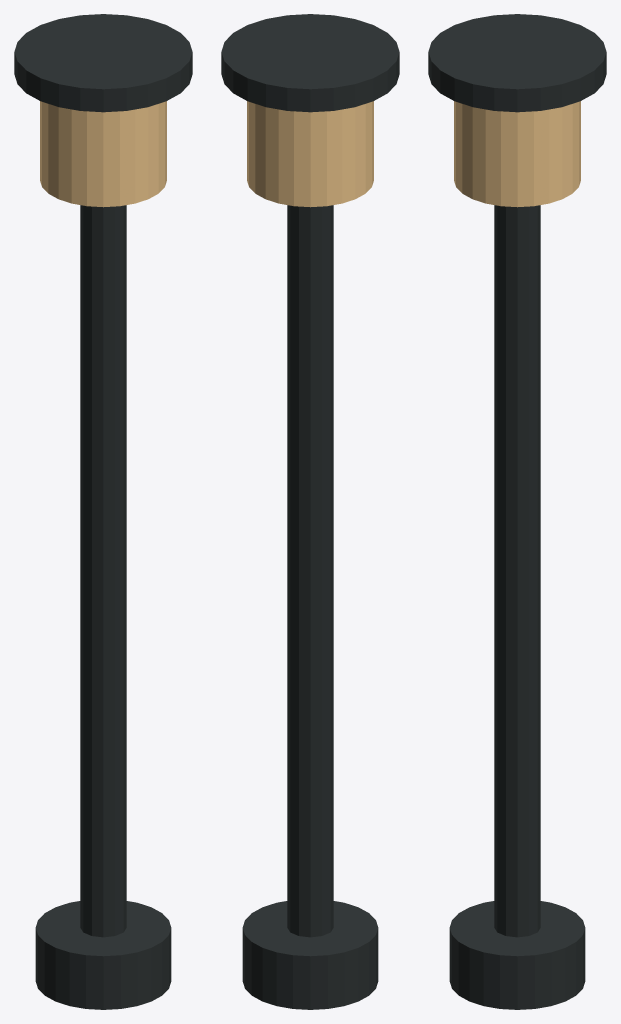
File: SAF_LAMP_NORMAL_01.fbx
3 views of the same model, side by side, from view 1: azimuth 30°, elevation 25°; view 2: azimuth 150°, elevation 25°; view 3: azimuth 270°, elevation 25° (orthographic).
Parts seen in each view (by area): view 1: SAF_LAMP_NORMAL_01; view 2: SAF_LAMP_NORMAL_01; view 3: SAF_LAMP_NORMAL_01.
Part boxes in pixels (x1,y1,x2,y2): SAF_LAMP_NORMAL_01: (14,14,192,1009); SAF_LAMP_NORMAL_01: (221,14,399,1009); SAF_LAMP_NORMAL_01: (428,14,606,1009).
Size of the model in its own units: 42 by 242 by 42.
